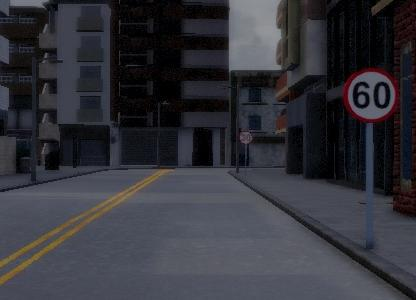Speed_60: (343, 60, 401, 126)
